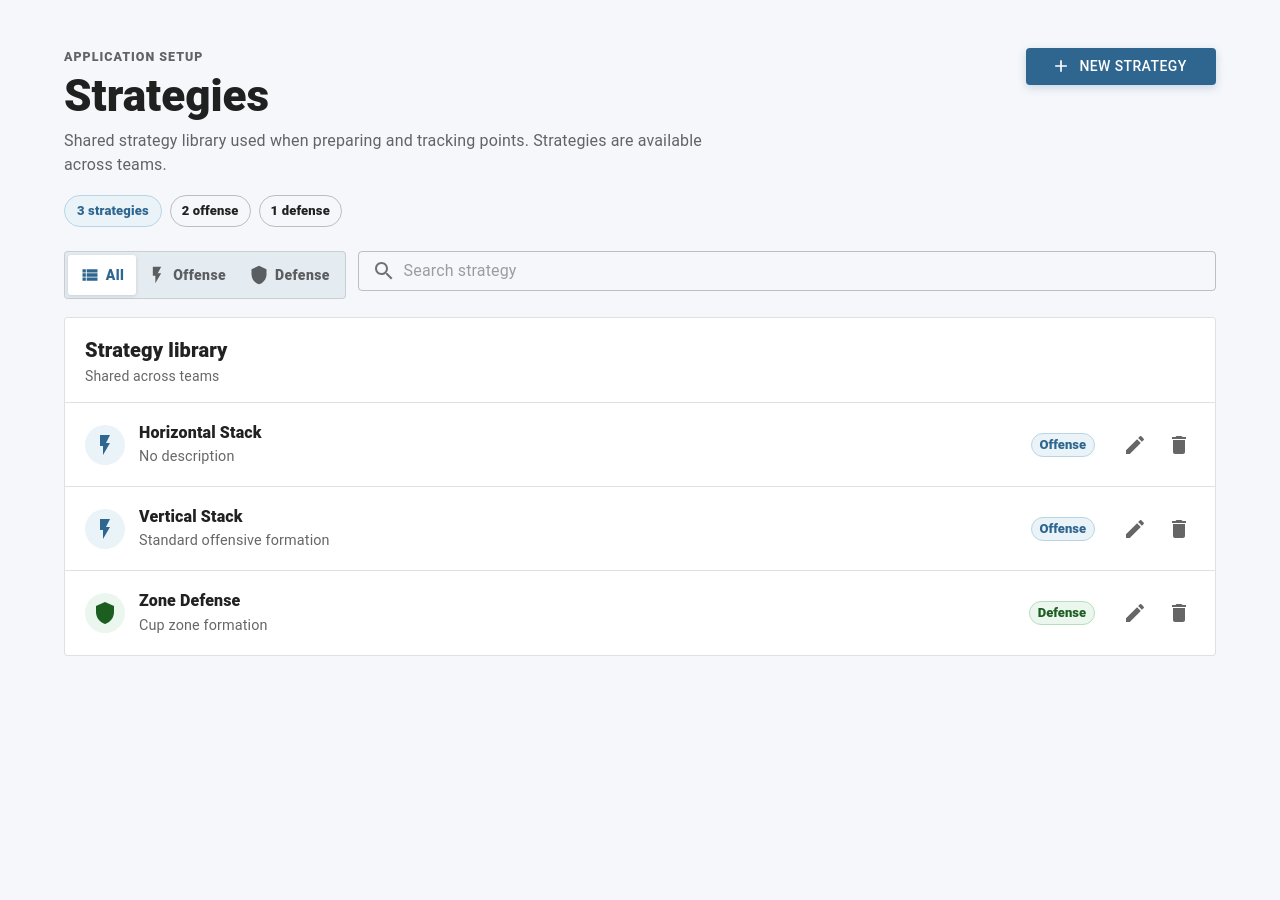
Test case: StrategiesPage › opens create and edit strategy dialogs
Click the button "New Strategy". click: click(1121, 66)
box: top-left (1026, 48), bottom-right (1216, 84)
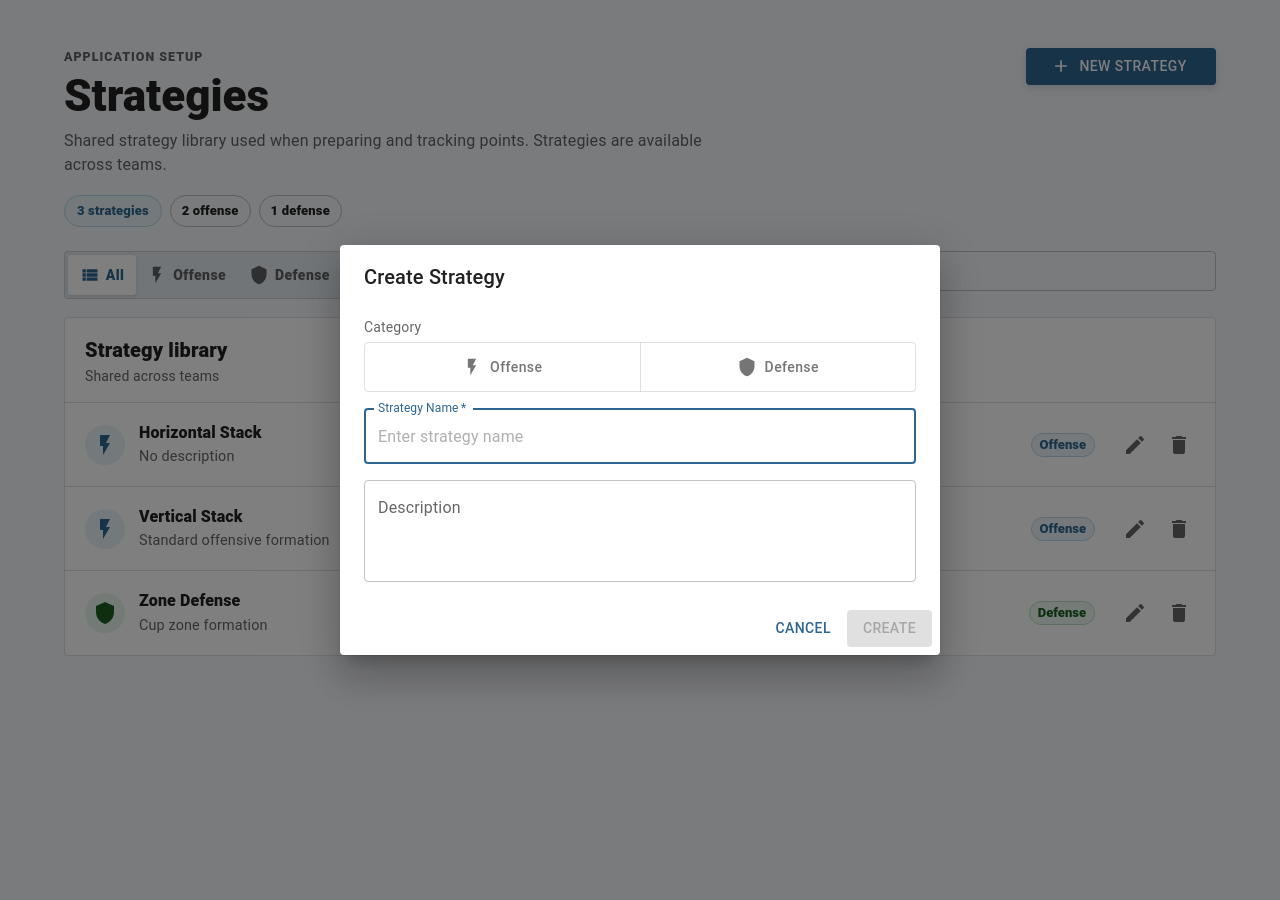
Expected: the dialog "Create Strategy" is shown, top-left (340, 245), bottom-right (940, 655)
Click the button "Cancel". click: click(803, 629)
box: top-left (767, 610), bottom-right (839, 647)
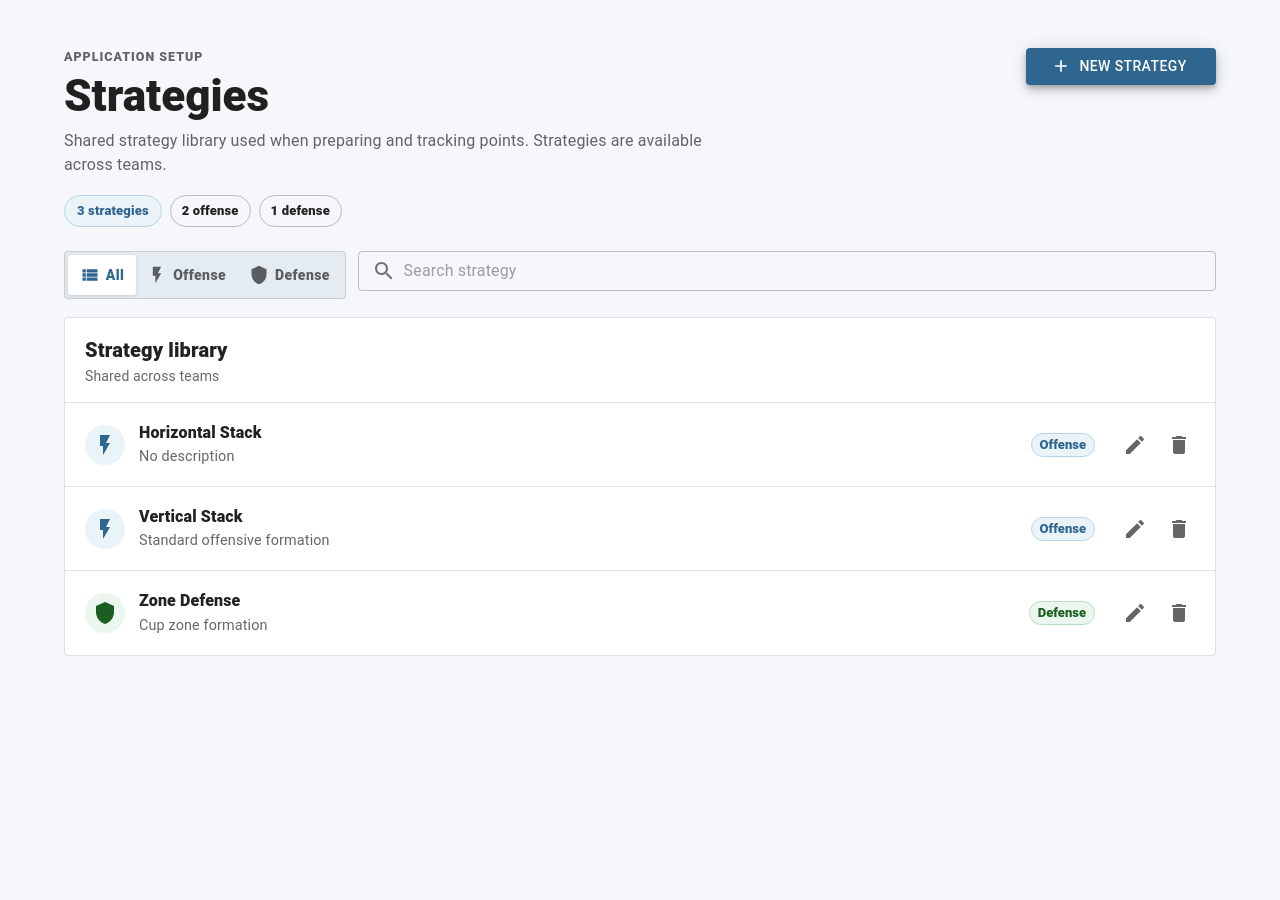
Expected: the heading "Create Strategy" is gone
Click the button named "Edit Vertical Stack". click: click(1135, 528)
box: top-left (1115, 508), bottom-right (1155, 548)
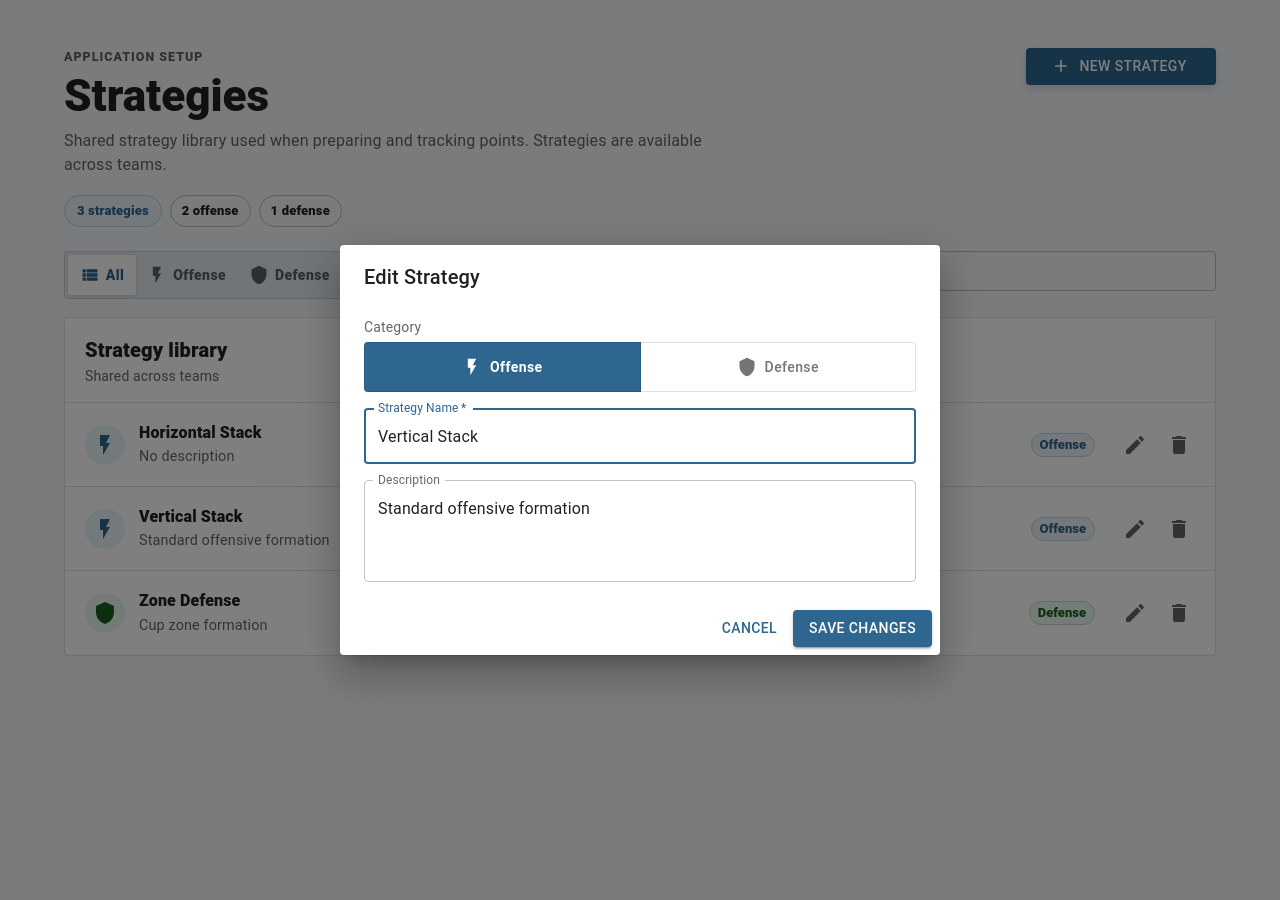
Expected: the dialog "Edit Strategy" is shown, top-left (340, 245), bottom-right (940, 655)
